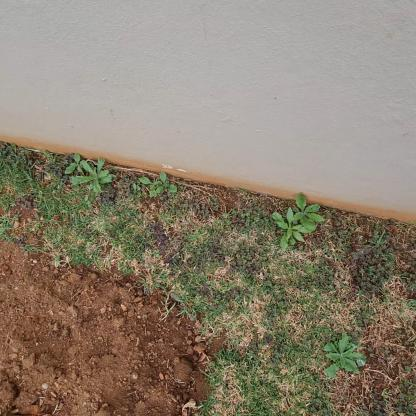Weeds: (321, 330, 369, 383), (271, 206, 314, 252), (72, 159, 116, 197), (294, 191, 324, 233), (65, 152, 92, 177), (139, 174, 163, 199), (156, 171, 177, 196)
